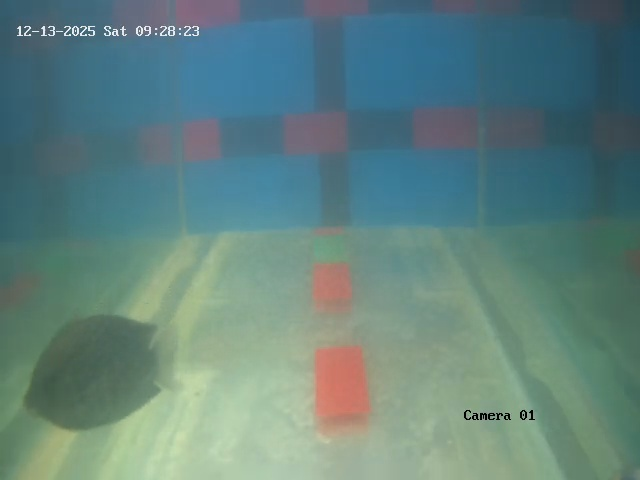fish: (24, 313, 173, 426)
